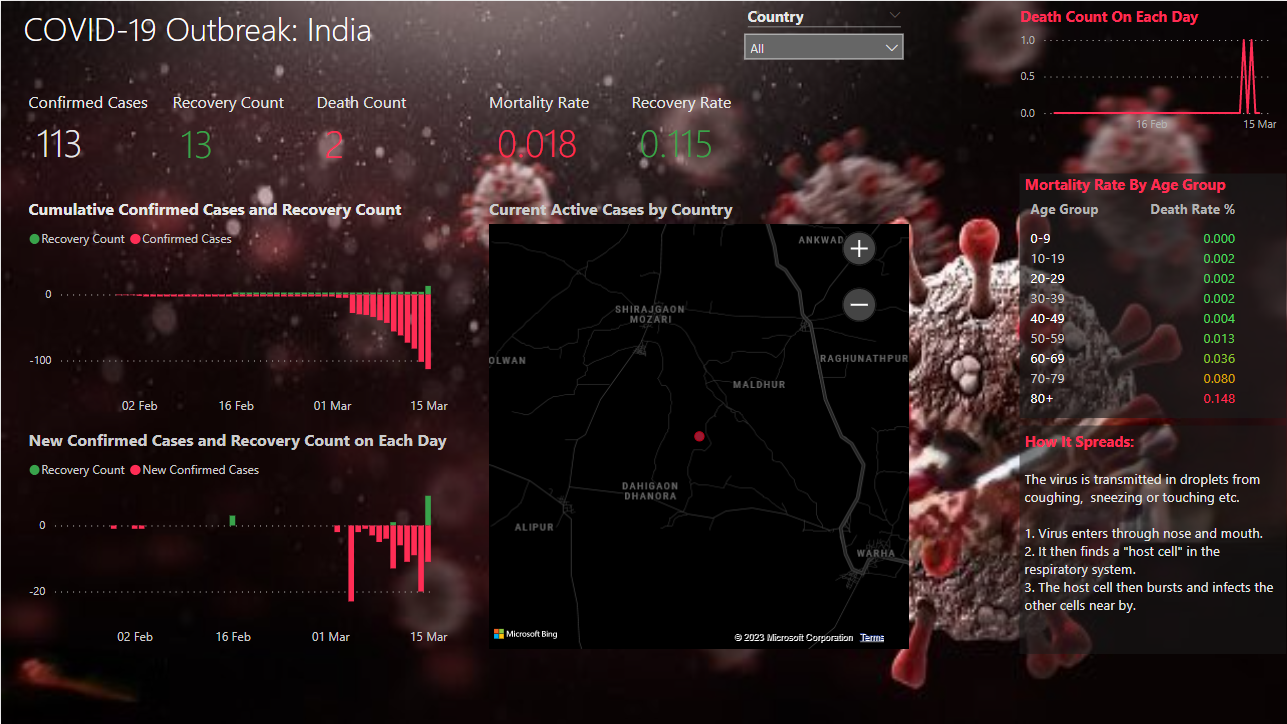

What the dashboard file says about the page in this screenshot:
{"tool":"powerbi","page":{"name":"India","canvas":[1280,720],"ordinal":1},"visuals":[{"type":"slicer","fields":{"Values":["Corona Summary.Country/Region"]},"box":[729.7,0,178.3,68.4],"z":0},{"type":"lineChart","title":"Death Count On Each Day","fields":{"Y":["Corona Summary.New Death Count"],"Category":["Corona Summary.Date"]},"box":[1008.5,5.2,265,134.7],"z":1000},{"type":"columnChart","title":"Cumulative  Confirmed Cases and Recovery Count","fields":{"Category":["Corona Summary.Date"],"Y":["Sum(Corona Summary.Recovery Count)","Corona Summary.Confirmed Cases Negative"]},"box":[22,196,428,225],"z":2000},{"type":"columnChart","title":"New Confirmed Cases and Recovery Count on Each Day","fields":{"Category":["Corona Summary.Date"],"Y":["Corona Summary.New Recovery Count","Corona Summary.New Confirmed Cases Negative"]},"box":[22,425,428,225],"z":3000},{"type":"actionButton","box":[21.8,0,700.6,51.8],"z":4000},{"type":"kpi","title":"Confirmed Cases","fields":{"TrendLine":["Corona Summary.Date"],"Indicator":["Sum(Corona Summary.Confirmed Cases)"]},"box":[21.9,90,140,79.8],"z":5000},{"type":"kpi","title":"Recovery Count","fields":{"TrendLine":["Corona Summary.Date"],"Indicator":["Sum(Corona Summary.Recovery Count)"]},"box":[165.5,90,140.2,81.1],"z":6000},{"type":"kpi","title":"Death Count","fields":{"TrendLine":["Corona Summary.Date"],"Indicator":["Sum(Corona Summary.Death Count)"]},"box":[309.3,90,140.2,81.1],"z":7000},{"type":"map","title":"Current Active Cases by Country","fields":{"Size":["Corona Summary.Current Active Cases"],"Y":["Corona Summary.Lat"],"X":["Corona Summary.Long"]},"box":[480,195.9,428,454],"z":8000},{"type":"kpi","title":"Mortality Rate","fields":{"Indicator":["Corona Summary.Death Rate"],"TrendLine":["Corona Summary.Date"]},"box":[480,90,140,79.8],"z":9000},{"type":"textbox","box":[1014,422.8,265.4,227.3],"z":11000},{"type":"tableEx","title":"Mortality Rate By Age Group","fields":{"Values":["Death Rate By Age Group.Age Group","Death Rate By Age Group.Death Rate All Cases"]},"box":[1014,171.7,265.4,243.2],"z":13000},{"type":"kpi","title":"Recovery Rate","fields":{"TrendLine":["Corona Summary.Date"],"Indicator":["Corona Summary.Recovery Rate"]},"box":[622,90,140.2,79.7],"z":14000}]}

Visuals, with their boxes in screenshot pixels (x1, y1, x2, y2), scaled from the page's 1280x720 canvas onto the 1287x724 screenshot:
slicer - Corona Summary.Country/Region: (734, 0, 913, 69)
"Death Count On Each Day" lineChart: (1014, 5, 1280, 141)
"Cumulative  Confirmed Cases and Recovery Count" columnChart: (22, 197, 452, 423)
"New Confirmed Cases and Recovery Count on Each Day" columnChart: (22, 427, 452, 654)
actionButton: (22, 0, 726, 52)
"Confirmed Cases" kpi: (22, 90, 163, 171)
"Recovery Count" kpi: (166, 90, 307, 172)
"Death Count" kpi: (311, 90, 452, 172)
"Current Active Cases by Country" map: (483, 197, 913, 654)
"Mortality Rate" kpi: (483, 90, 623, 171)
textbox: (1020, 425, 1286, 654)
"Mortality Rate By Age Group" tableEx: (1020, 173, 1286, 417)
"Recovery Rate" kpi: (625, 90, 766, 171)
